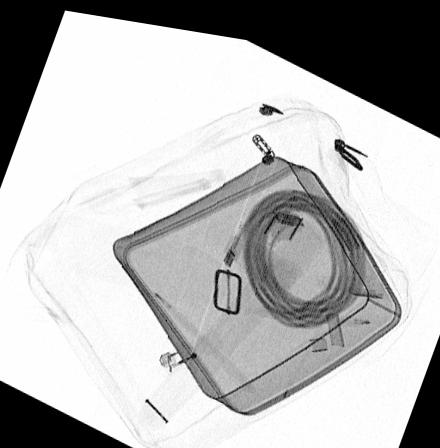Lighter: (156, 322, 226, 370)
